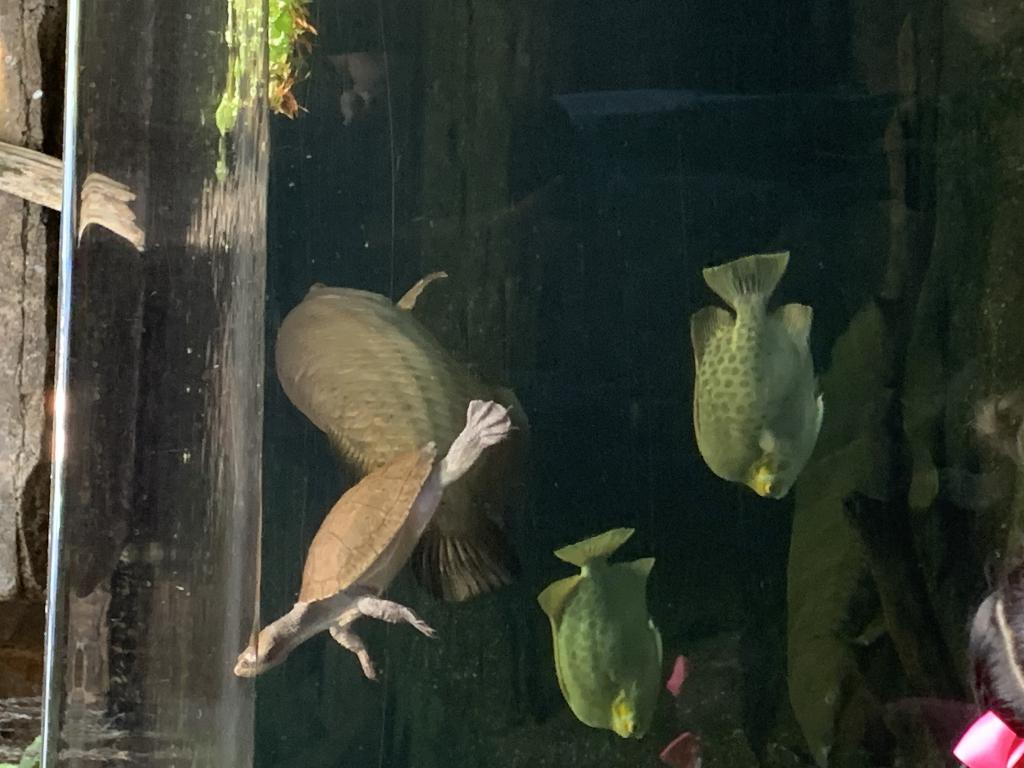fish: (272, 272, 536, 604), (686, 247, 826, 503), (534, 526, 664, 744)
